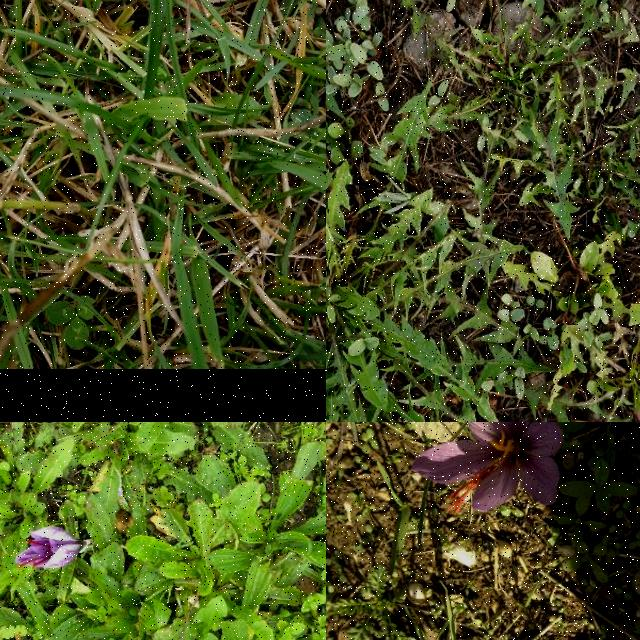flower: (410, 422, 565, 511), (15, 526, 84, 570)
